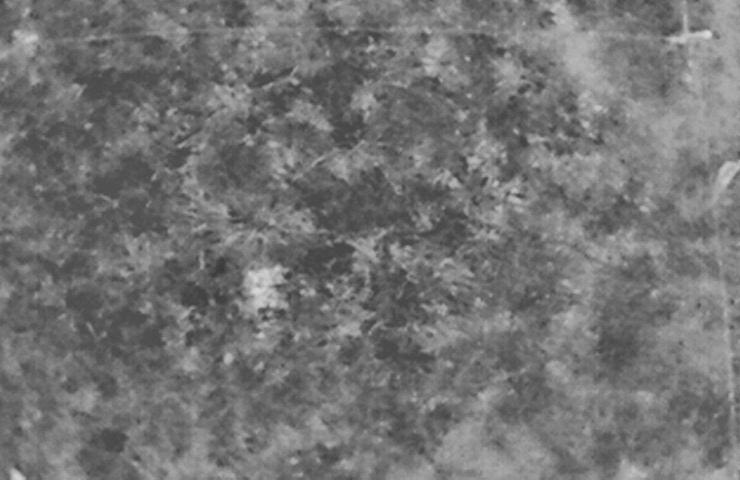landmines: (244, 266, 294, 313)
